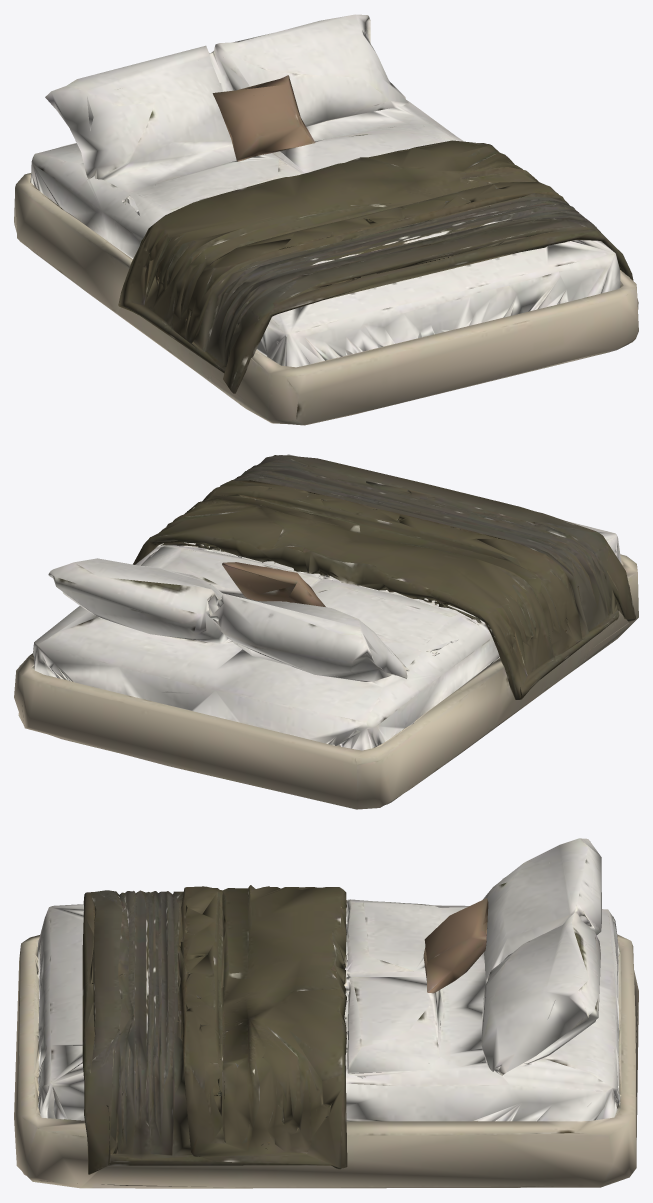
Rendered from fm_bed_lowprofile.glb.
3 renders of one model, top to bottom at view 1: azimuth 30°, elevation 25°; view 2: azimuth 150°, elevation 25°; view 3: azimuth 270°, elevation 25°, orthographic. The views are drawn at different scales.
Visible parts, largest first — view 1: world; view 2: world; view 3: world.
Part boxes in pixels (left/top/right/bottom): world: left=14, top=14, right=638, bottom=425; world: left=14, top=454, right=638, bottom=809; world: left=14, top=838, right=638, bottom=1188.
Size of the model in its own units: 1.74 by 0.6674 by 2.09.
Materials: 1 (1 with a texture image).
